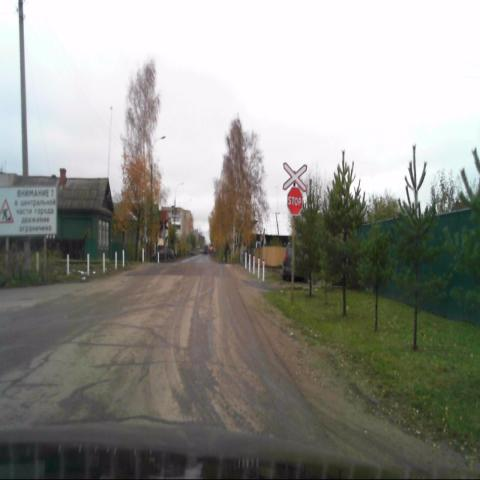2_5: (287, 186, 303, 215)
